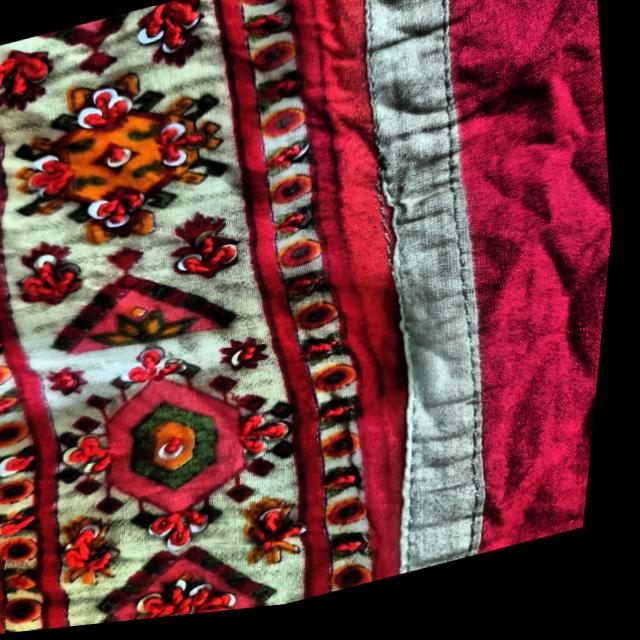Stitch: (335, 103, 489, 421)
